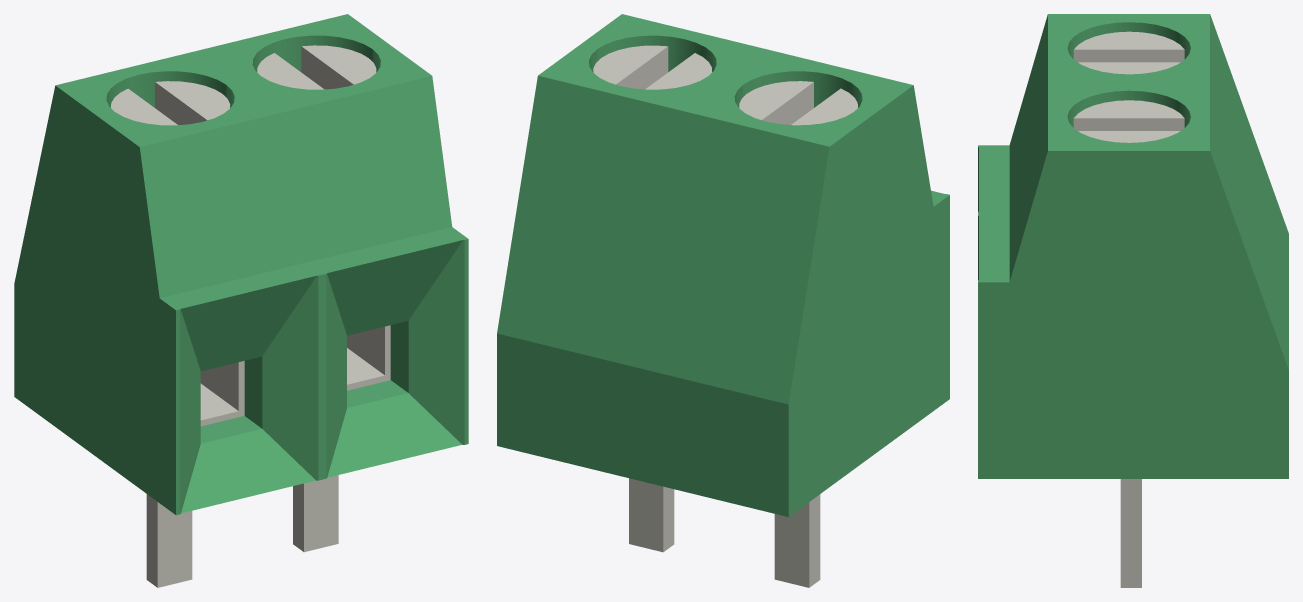
Rendered from kc-terminalblock_phoenix_mkds-1-2-3.81_1x02_p3.81mm_horizontal.glb.
3 views of the same model, side by side, from view 1: azimuth 30°, elevation 25°; view 2: azimuth 150°, elevation 25°; view 3: azimuth 270°, elevation 25° (orthographic). The views are drawn at different scales.
Parts seen in each view (by area): view 1: 0.08333333333333333_0.4166666666666667_0.16666666666666666_0, 0.6666666666666666_0.6666666666666666_0.5833333333333334_0.8; view 2: 0.08333333333333333_0.4166666666666667_0.16666666666666666_0, 0.6666666666666666_0.6666666666666666_0.5833333333333334_0.8; view 3: 0.08333333333333333_0.4166666666666667_0.16666666666666666_0, 0.6666666666666666_0.6666666666666666_0.5833333333333334_0.8.
Boxes of the visible parts, x1,y1,x2,y2 form: 0.08333333333333333_0.4166666666666667_0.16666666666666666_0: (14, 14, 468, 515); 0.6666666666666666_0.6666666666666666_0.5833333333333334_0.8: (111, 45, 390, 587); 0.08333333333333333_0.4166666666666667_0.16666666666666666_0: (497, 14, 949, 516); 0.6666666666666666_0.6666666666666666_0.5833333333333334_0.8: (593, 45, 857, 587); 0.08333333333333333_0.4166666666666667_0.16666666666666666_0: (978, 14, 1288, 478); 0.6666666666666666_0.6666666666666666_0.5833333333333334_0.8: (1073, 31, 1184, 587).
Bounding box in the file's own units: 0.762 × 1.2 × 0.7301.
